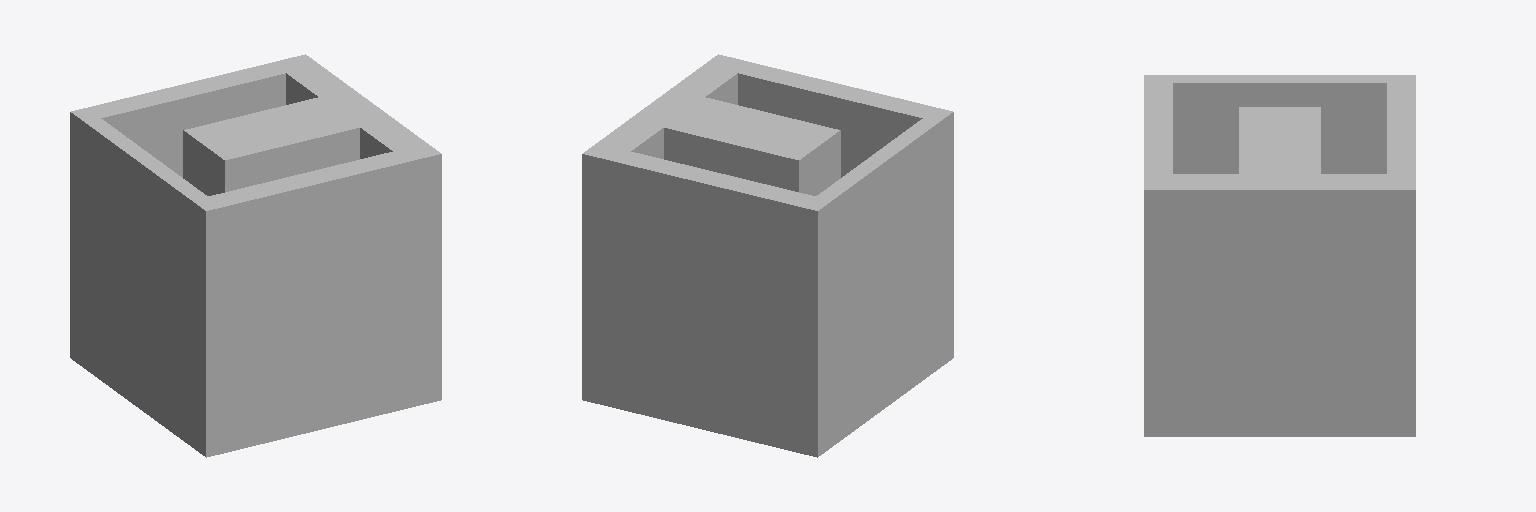
Rendered from U_cube_bottle_preprocessed.obj.
3 views of the same model, side by side, from view 1: azimuth 30°, elevation 25°; view 2: azimuth 150°, elevation 25°; view 3: azimuth 270°, elevation 25° (orthographic).
Size of the model in its own units: 0.08 by 0.08 by 0.08.